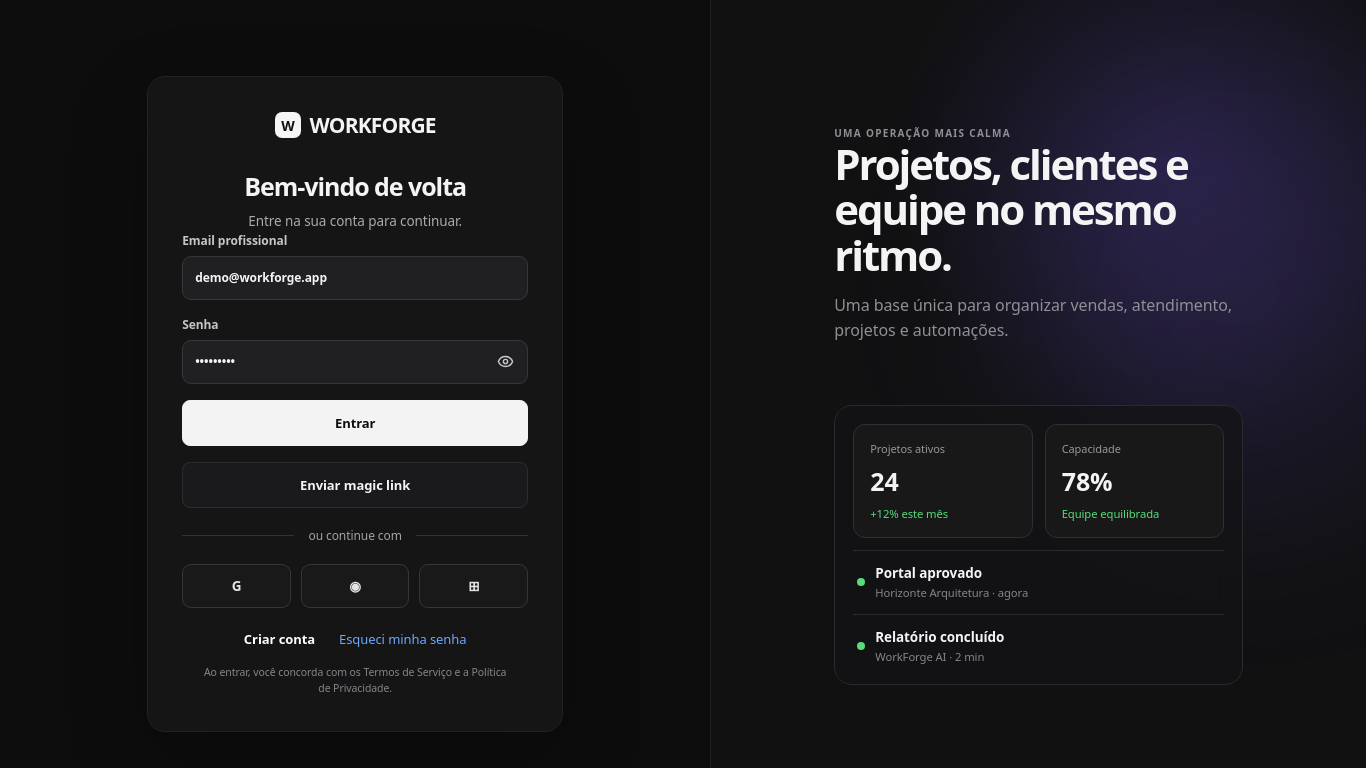
it: core interactions › moves from login to onboarding when the account is not configured
The width and height of the screenshot is (1366, 768).
Click the button "Entrar".
click(355, 423)  # box left=182, top=400, right=528, bottom=446
Wait 700 ms
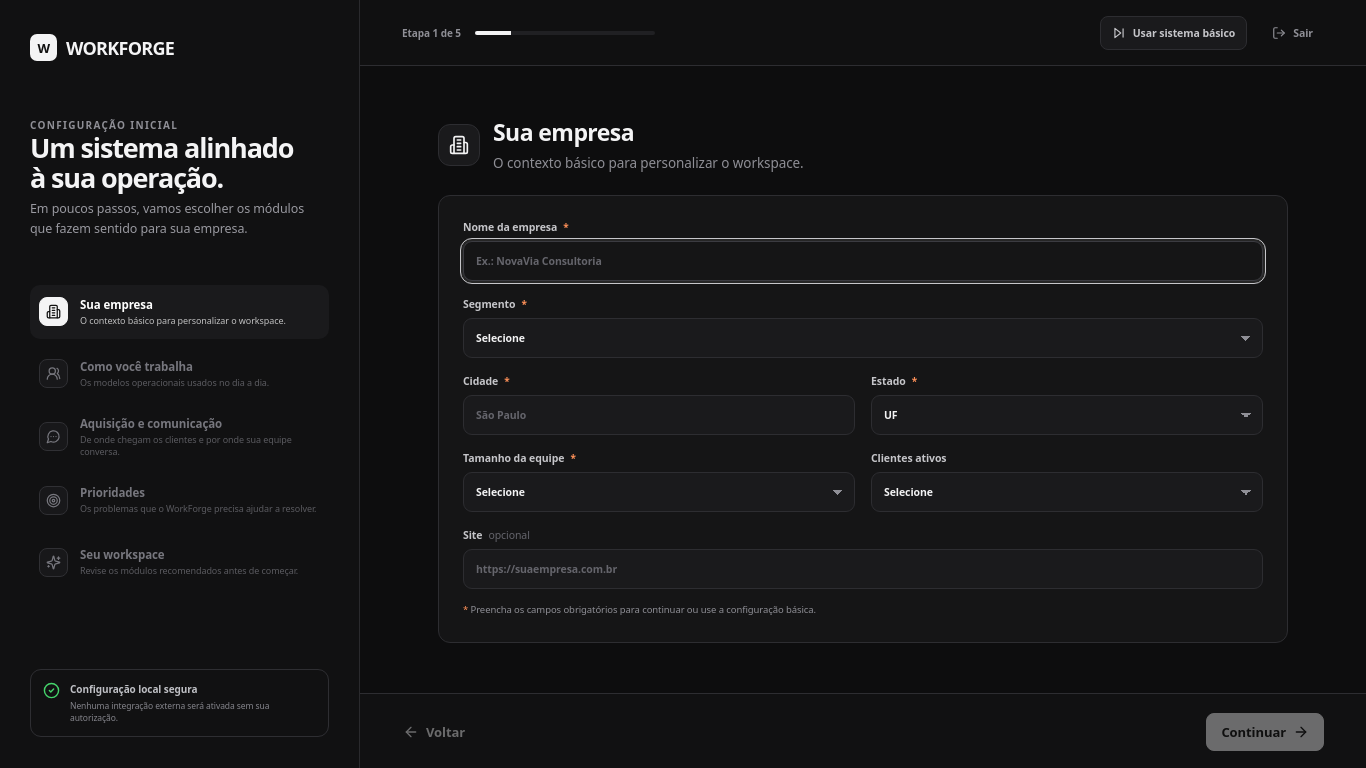
Expected: the heading "Sua empresa" is shown, left=493, top=116, right=634, bottom=148
